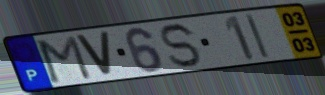1: (223, 14, 258, 63)
6: (123, 25, 165, 75)
I: (243, 12, 272, 61)
M: (35, 34, 94, 85)
S: (160, 21, 204, 70)
V: (72, 31, 114, 78)
